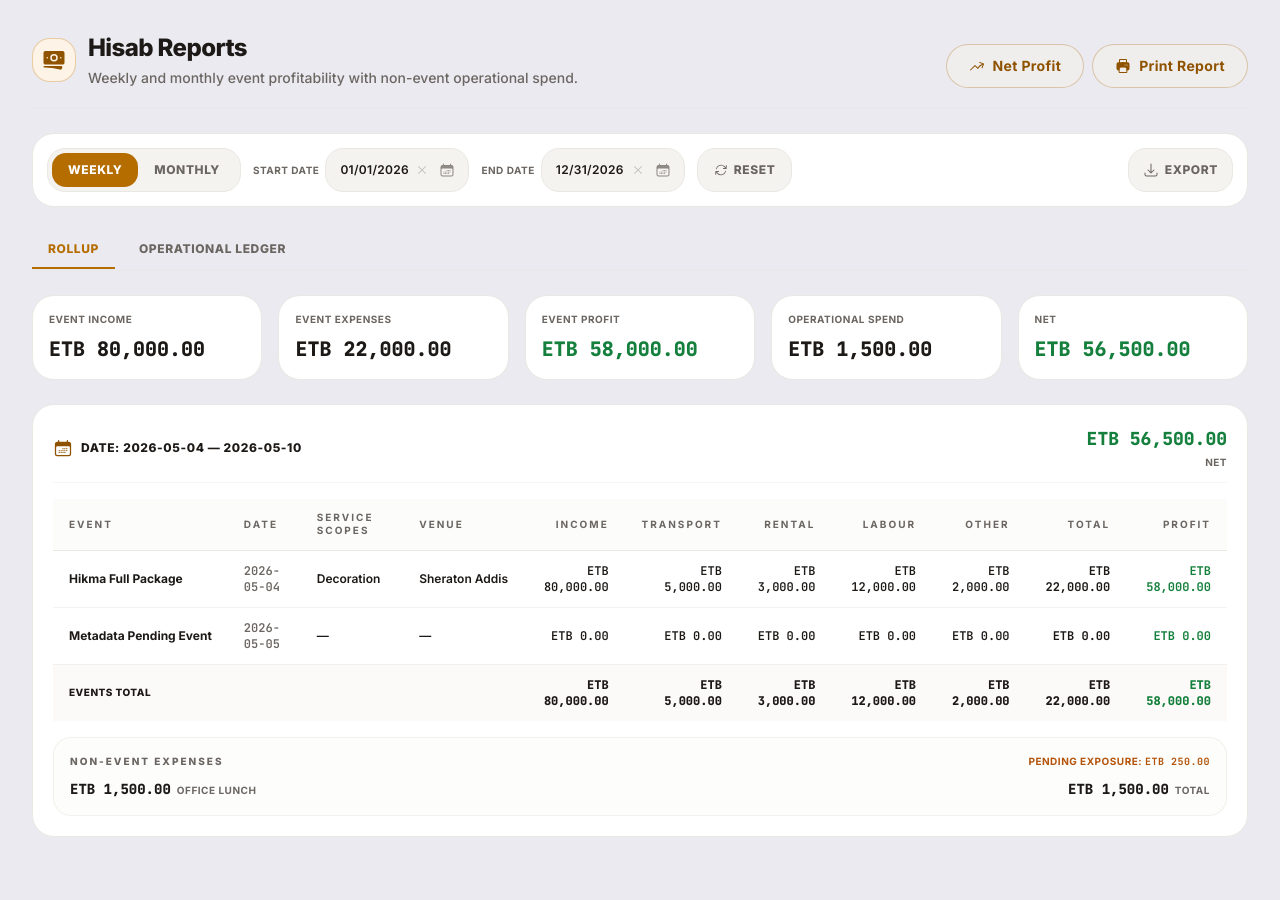
HisabReportPage › shows write and approve actions for full finance users
Click the button "Operational Ledger" at point(212, 250), box [123,231,302,269]
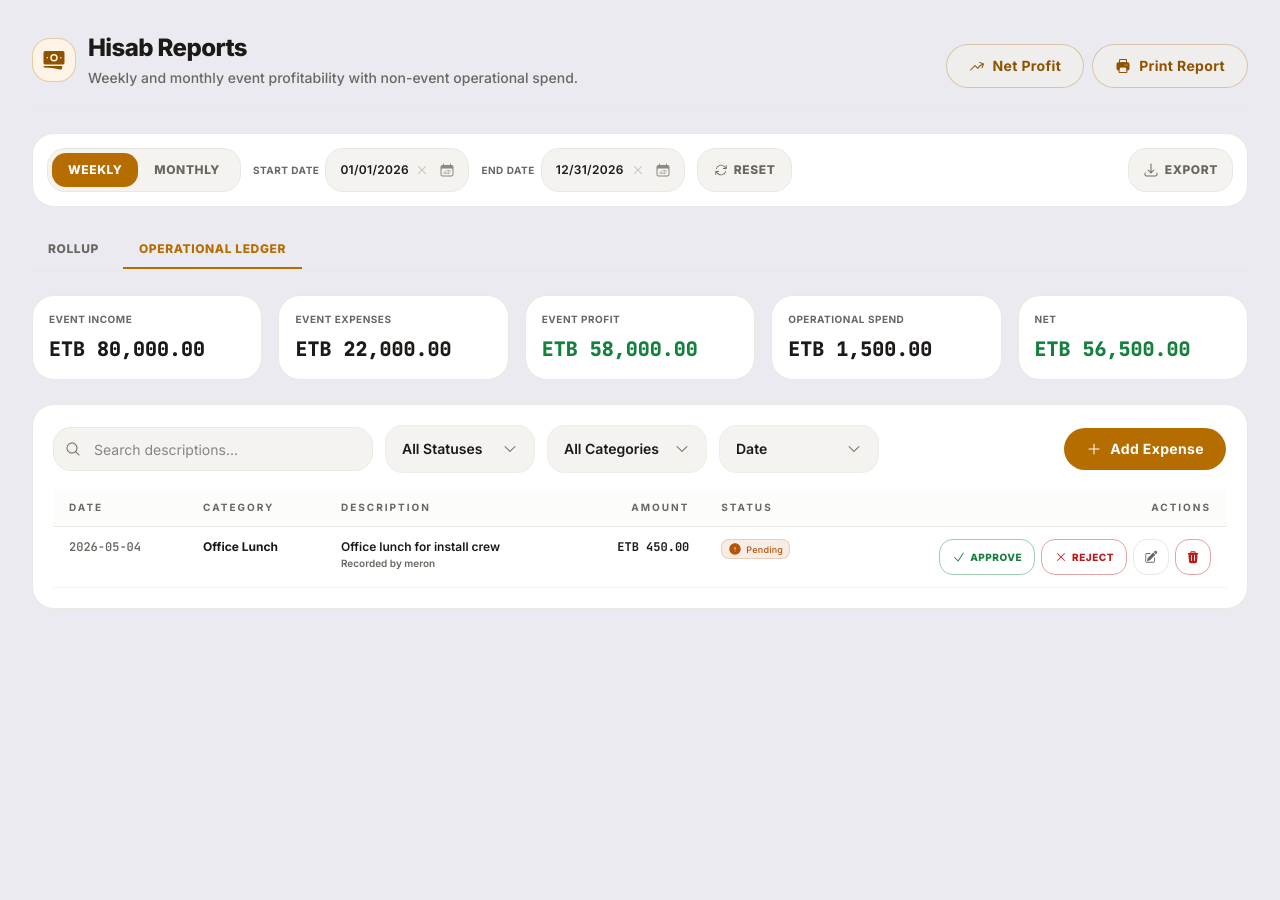
Now the button "Add Expense" is shown, box [1063,427,1227,471]
Now the button "Approve" is shown, box [939,539,1035,575]
Now the button "Reject" is shown, box [1041,539,1127,575]
